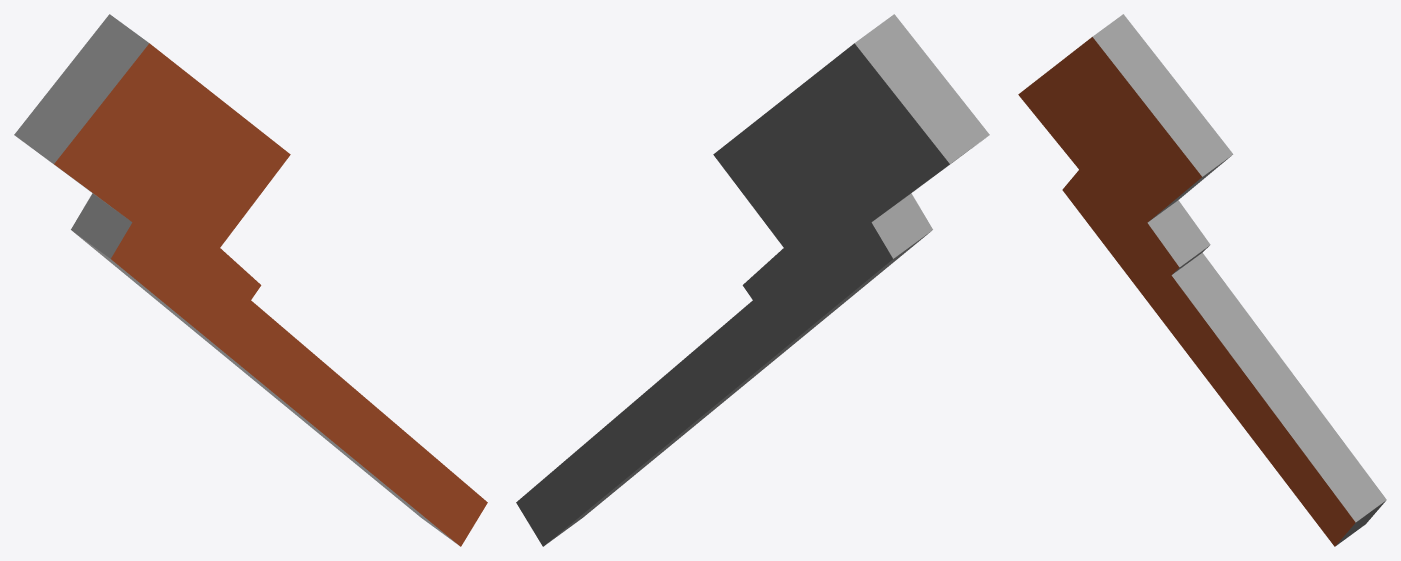
Rendered from construction_1499_assumed_A_Casa_h6m.obj.
3 views of the same model, side by side, from view 1: azimuth 30°, elevation 25°; view 2: azimuth 150°, elevation 25°; view 3: azimuth 330°, elevation 25° (orthographic). The views are drawn at different scales.
Visible parts, largest first — view 1: construction_1499_assumed_A_Casa; view 2: construction_1499_assumed_A_Casa; view 3: construction_1499_assumed_A_Casa.
Part boxes in pixels (x1,y1,x2,y2): construction_1499_assumed_A_Casa: (14, 14, 487, 546); construction_1499_assumed_A_Casa: (516, 14, 989, 546); construction_1499_assumed_A_Casa: (1018, 14, 1386, 546).
Bounding box in the file's own units: 37.65 × 48.06 × 6.
